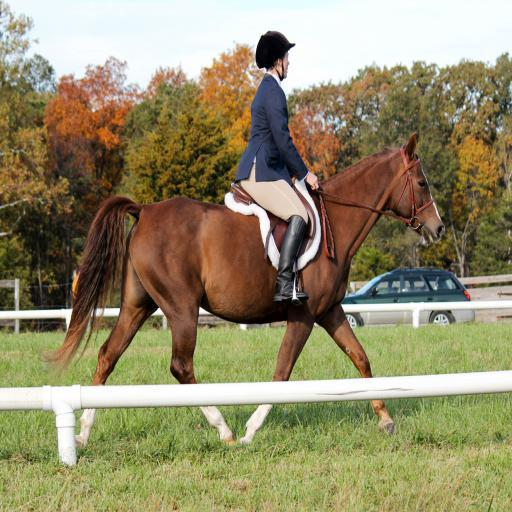Horse: (38, 130, 448, 446)
